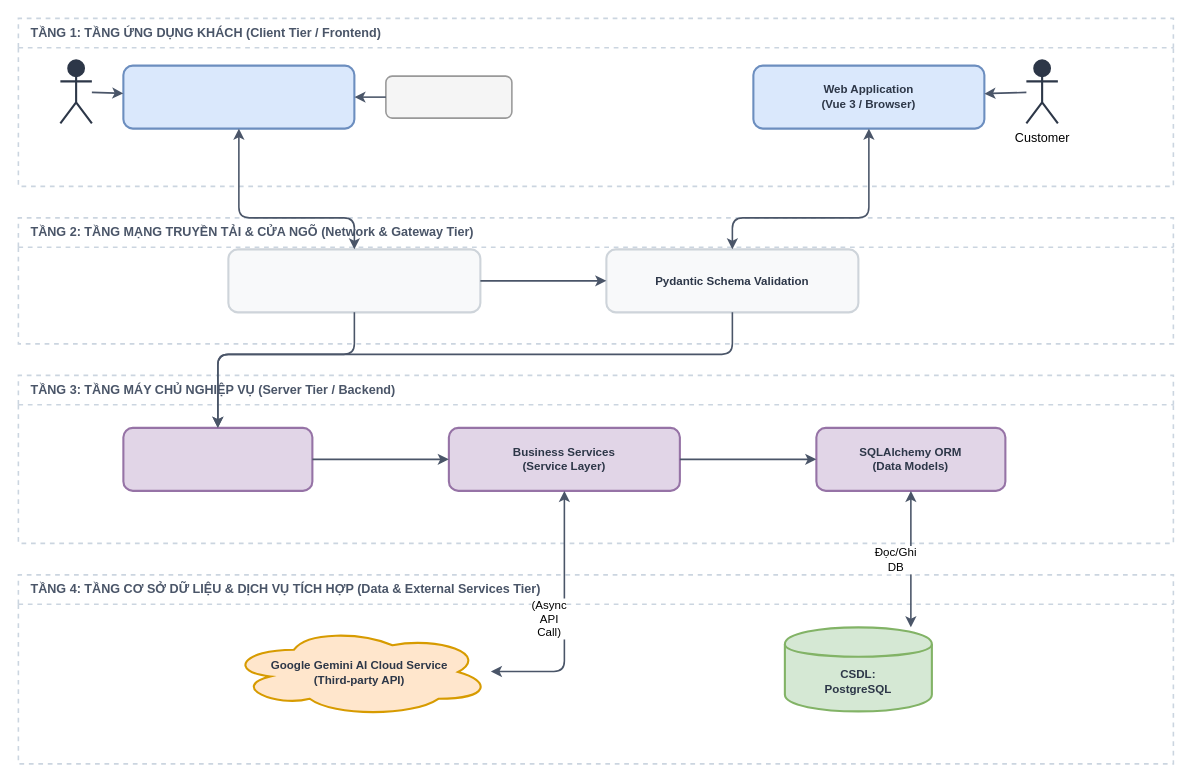
Image size: 1193x783. Some labels were removed from this diagram. The centre of each missing label's shape, as x and y in pixels:
"API Routers" belongs at point (217, 458).
"Barcode Scanner (Máy quét mã vạch)" belongs at point (448, 96).
"Desktop POS Application (Electron + Vue 3)" belongs at point (238, 96).
"JWT Authentication Middleware" belongs at point (354, 280).
"Staff / Admin" belongs at point (75, 91).
